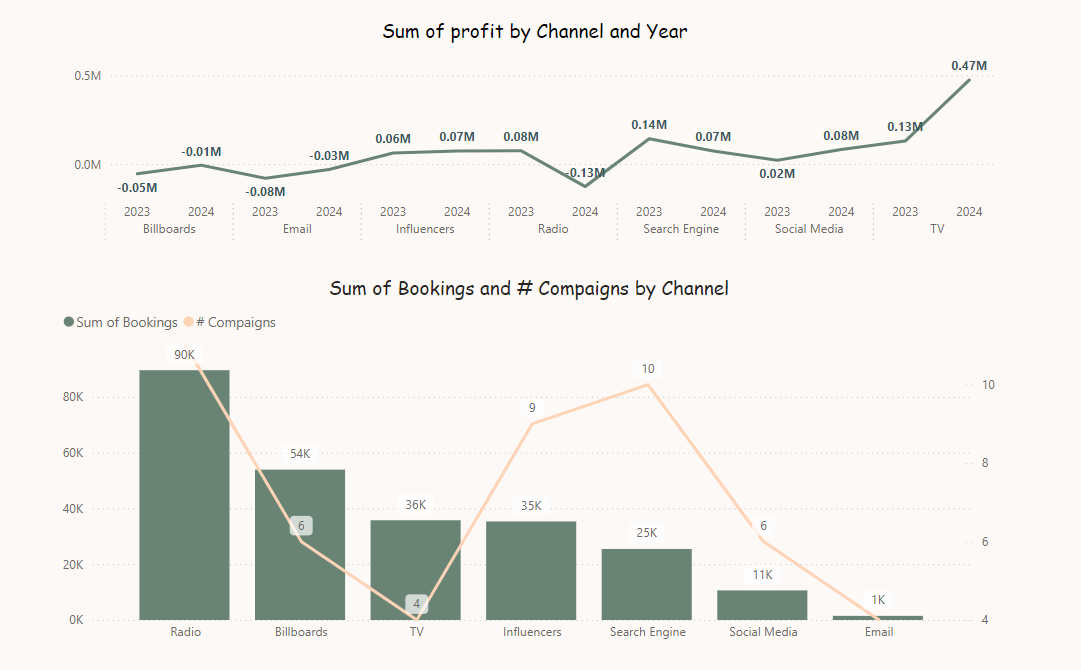

This screenshot's page, from the dashboard's own definition file:
{"tool":"powerbi","page":{"name":"profit by time","canvas":[1280,720],"ordinal":4},"visuals":[{"type":"lineChart","fields":{"Category":["Sheet1.Channel","Sheet1.End Date.Variation.Date Hierarchy.Year"],"Y":["Sum(Sheet1.profit)"]},"box":[112.9,38,914.1,230.7],"z":0},{"type":"lineClusteredColumnComboChart","fields":{"Category":["Sheet1.Channel"],"Y":["Sum(Sheet1.Bookings)"],"Y2":["Sheet1.# Compaigns"]},"box":[101.8,290.8,925.2,369.3],"z":1000}]}

Visuals, with their boxes on the page's 1280x720 design canvas (x1, y1, x2, y2). These are canvas units, not pixel positions in the 1081x670 screenshot, which may show the page scaled, cropped or inside an application window:
lineChart - Sheet1.Channel x Sheet1.End Date.Variation.Date Hierarchy.Year: [113,38,1027,269]
lineClusteredColumnComboChart - Sheet1.Channel x Sum(Sheet1.Bookings): [102,291,1027,660]
